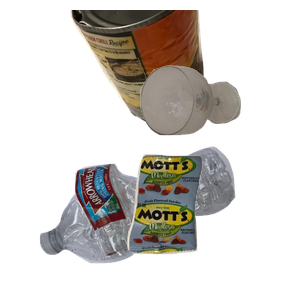glass: (138, 63, 300, 191)
metal: (68, 10, 265, 131)
plastic: (37, 144, 265, 300)
trash: (125, 152, 300, 300)
